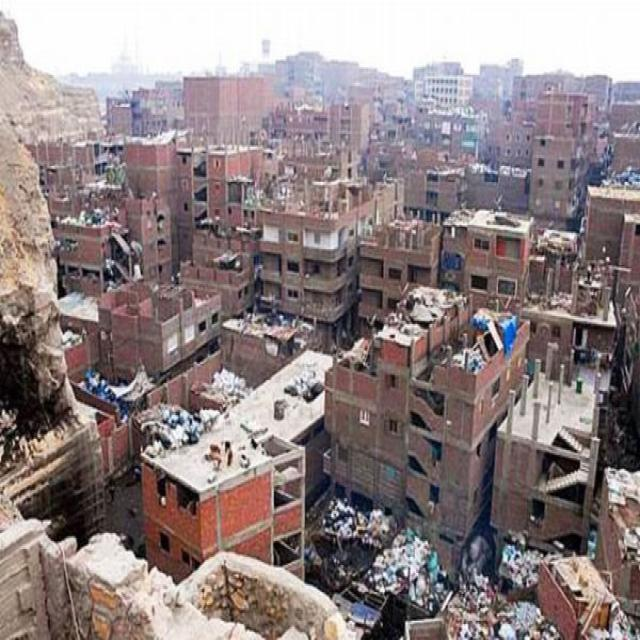garbage: (334, 526, 442, 606), (456, 565, 560, 640), (166, 392, 214, 459)
